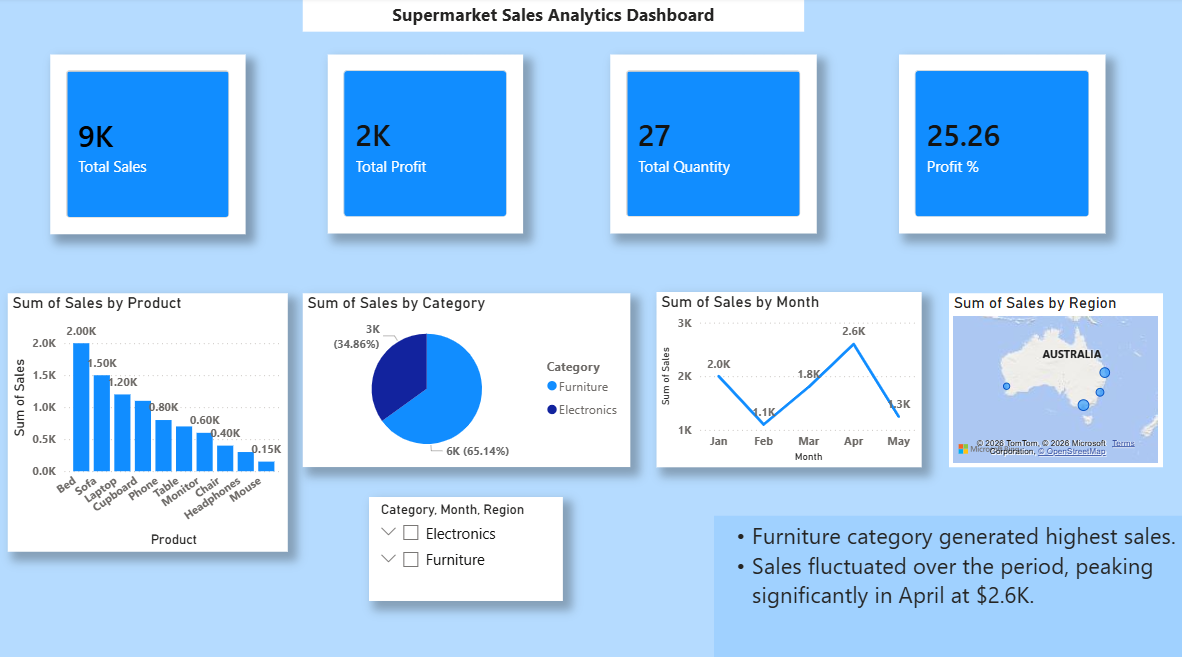

Layout of this report page (visuals, bound fields, positions):
{"tool":"powerbi","page":{"name":"Page 1","canvas":[1280,720],"ordinal":0},"visuals":[{"type":"columnChart","fields":{"Category":["Sheet1.Product"],"Y":["Sum(Sheet1.Sales)"]},"box":[14.8,319.1,301.6,278.7],"z":0},{"type":"pieChart","fields":{"Category":["Sheet1.Category"],"Y":["Sum(Sheet1.Sales)"]},"box":[332.5,319.1,352.7,187.1],"z":1000},{"type":"lineChart","fields":{"Category":["Sheet1.Month"],"Y":["Sum(Sheet1.Sales)"]},"box":[713.5,317.7,285.4,188.5],"z":2000},{"type":"slicer","fields":{"Values":["Sheet1.Category","Sheet1.Month","Sheet1.Region"]},"box":[403.9,538.5,208.7,111.7],"z":3000},{"type":"textbox","box":[332.5,1.3,539.8,36.3],"z":4000},{"type":"textbox","box":[775.4,558.7,504.8,161.5],"z":5000},{"type":"cardVisual","fields":{"Data":["Sheet1.Total Quantity"]},"box":[663.7,61.9,222.1,192.5],"z":6000},{"type":"cardVisual","fields":{"Data":["Sheet1.Profit %"]},"box":[974.7,61.9,222.1,192.5],"z":7000},{"type":"cardVisual","fields":{"Data":["Sheet1.Total Profit"]},"box":[359.4,61.9,210,192.5],"z":8000},{"type":"cardVisual","fields":{"Data":["Sheet1.Total Sales"]},"box":[60.6,61.9,210,193.9],"z":9000},{"type":"map","fields":{"Category":["Sheet1.Region"],"Size":["Sum(Sheet1.Sales)"]},"box":[1028.5,319.1,230.2,187.1],"z":10000}]}

Visuals, with their boxes in screenshot pixels (x1, y1, x2, y2), scaled from the page's 1280x720 canvas onto the 1182x657 screenshot:
columnChart - Sheet1.Product x Sum(Sheet1.Sales): BBox(14, 291, 292, 545)
pieChart - Sheet1.Category x Sum(Sheet1.Sales): BBox(307, 291, 633, 462)
lineChart - Sheet1.Month x Sum(Sheet1.Sales): BBox(659, 290, 922, 462)
slicer - Sheet1.Category x Sheet1.Month: BBox(373, 491, 566, 593)
textbox: BBox(307, 1, 806, 34)
textbox: BBox(716, 510, 1181, 656)
cardVisual - Sheet1.Total Quantity: BBox(613, 56, 818, 232)
cardVisual - Sheet1.Profit %: BBox(900, 56, 1105, 232)
cardVisual - Sheet1.Total Profit: BBox(332, 56, 526, 232)
cardVisual - Sheet1.Total Sales: BBox(56, 56, 250, 233)
map - Sheet1.Region x Sum(Sheet1.Sales): BBox(950, 291, 1162, 462)
